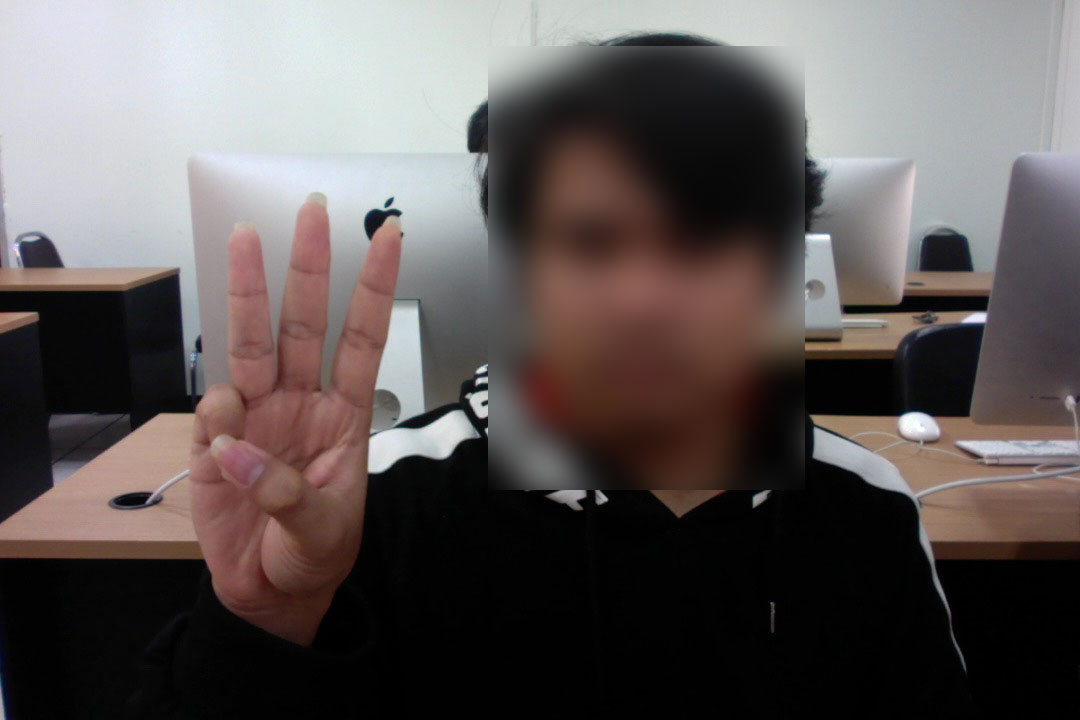wor: (172, 191, 414, 651)
